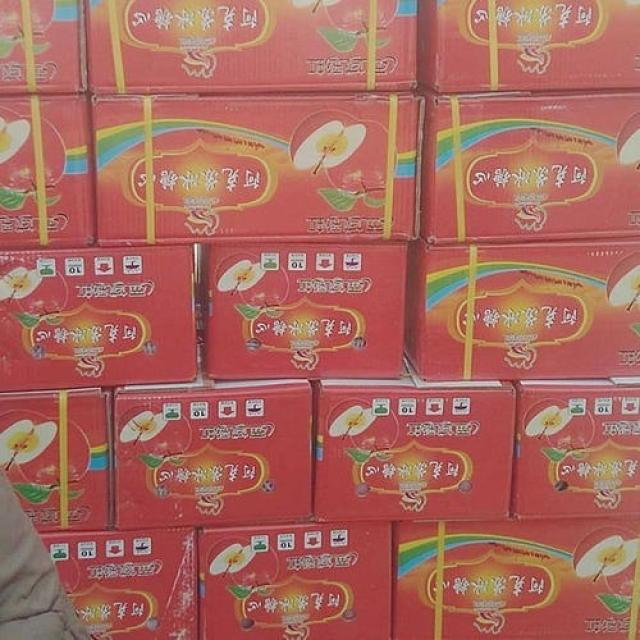box: (90, 92, 421, 247), (419, 84, 640, 244), (312, 357, 518, 522), (406, 237, 640, 381), (84, 0, 419, 95), (393, 516, 640, 640), (115, 378, 315, 531), (0, 244, 198, 392), (200, 243, 412, 379), (198, 521, 393, 640), (416, 0, 640, 91), (511, 376, 640, 517), (37, 529, 198, 640), (0, 387, 116, 535), (0, 96, 96, 251)
